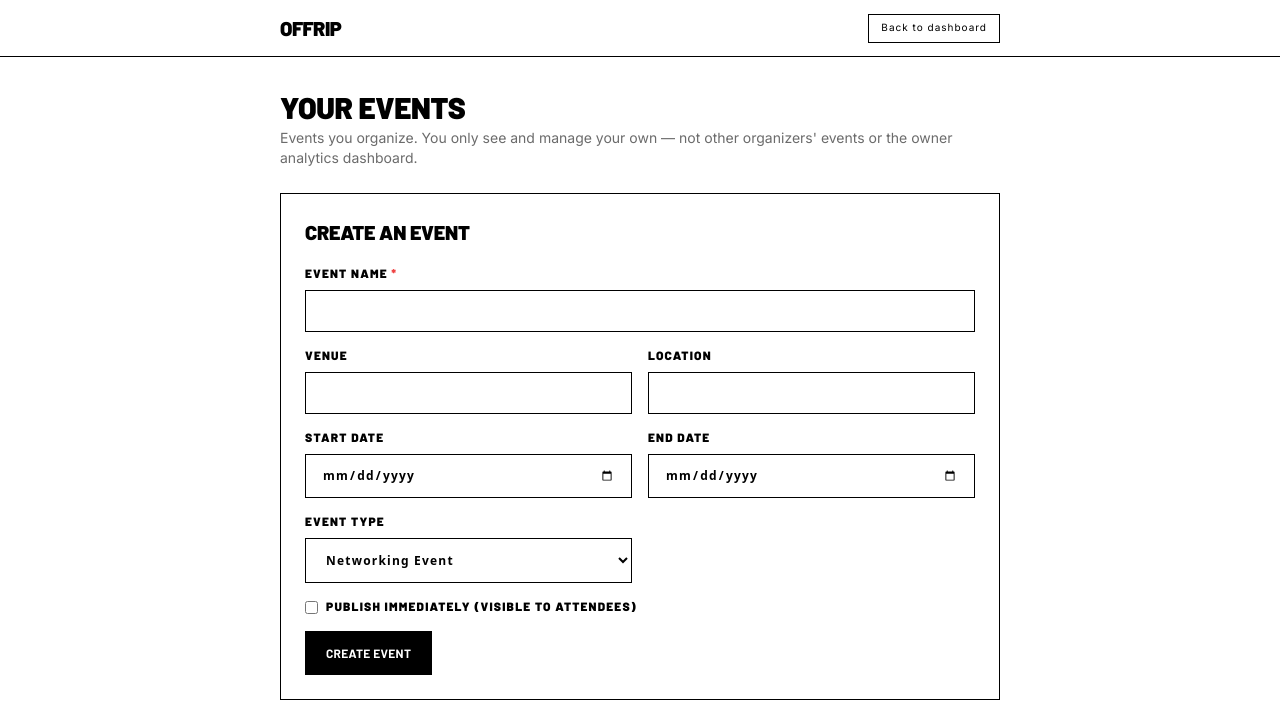
Test: OrganizerRooms — create › inserts with organizer_id set to the signed-in user and the chosen type
Check: the heading "Your events" is shown, box left=280, top=89, right=466, bottom=125
Type "Founders Mixer" into the field labelled "Event name *" at (640, 311), box left=305, top=290, right=975, bottom=332
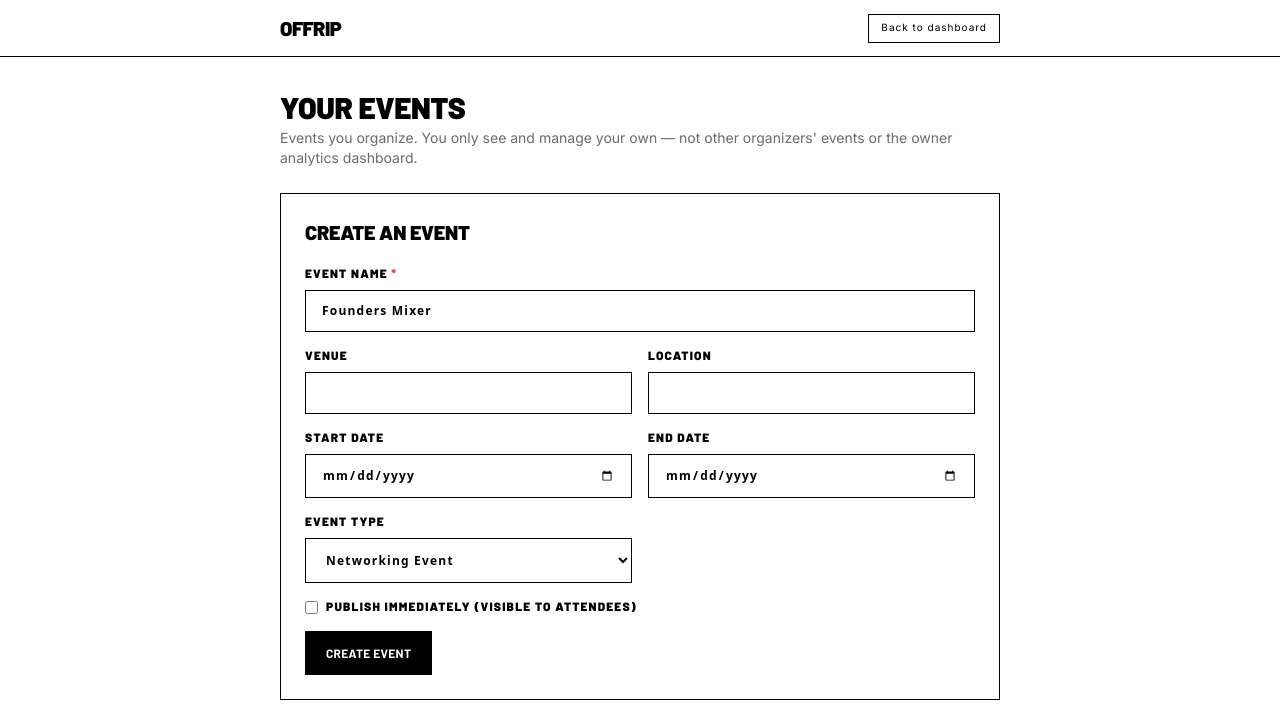
Type "The Wing" into the field labelled "Venue" at (468, 393), box left=305, top=372, right=632, bottom=414
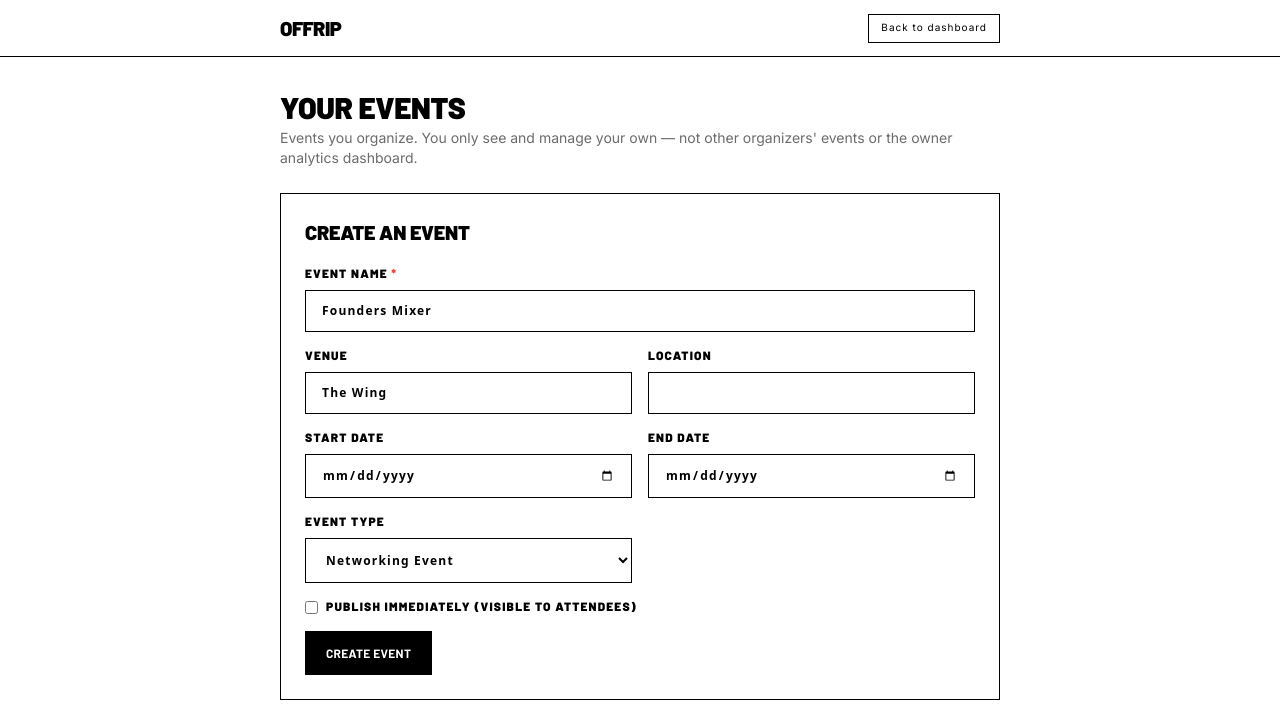
Select "Conference" in the dropdown labelled "Event type" at (468, 560), box left=305, top=538, right=632, bottom=583
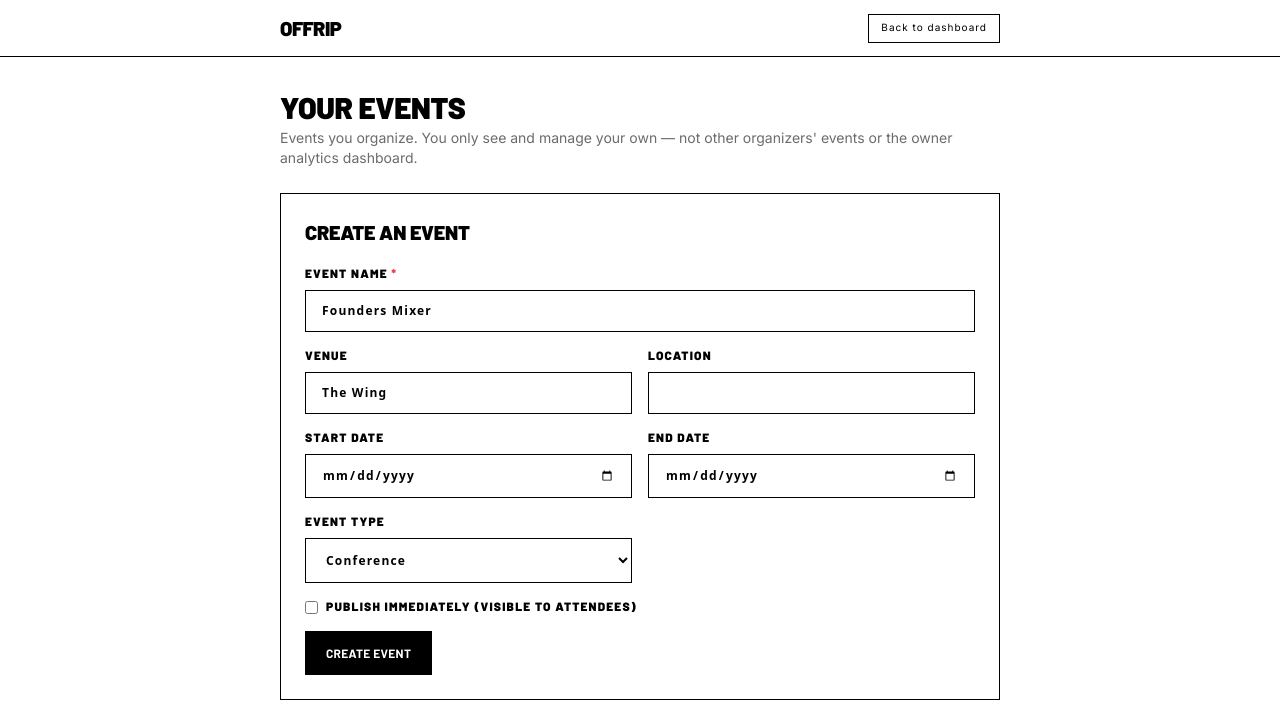
Click the button "Create event" at (369, 653), box left=305, top=631, right=432, bottom=675
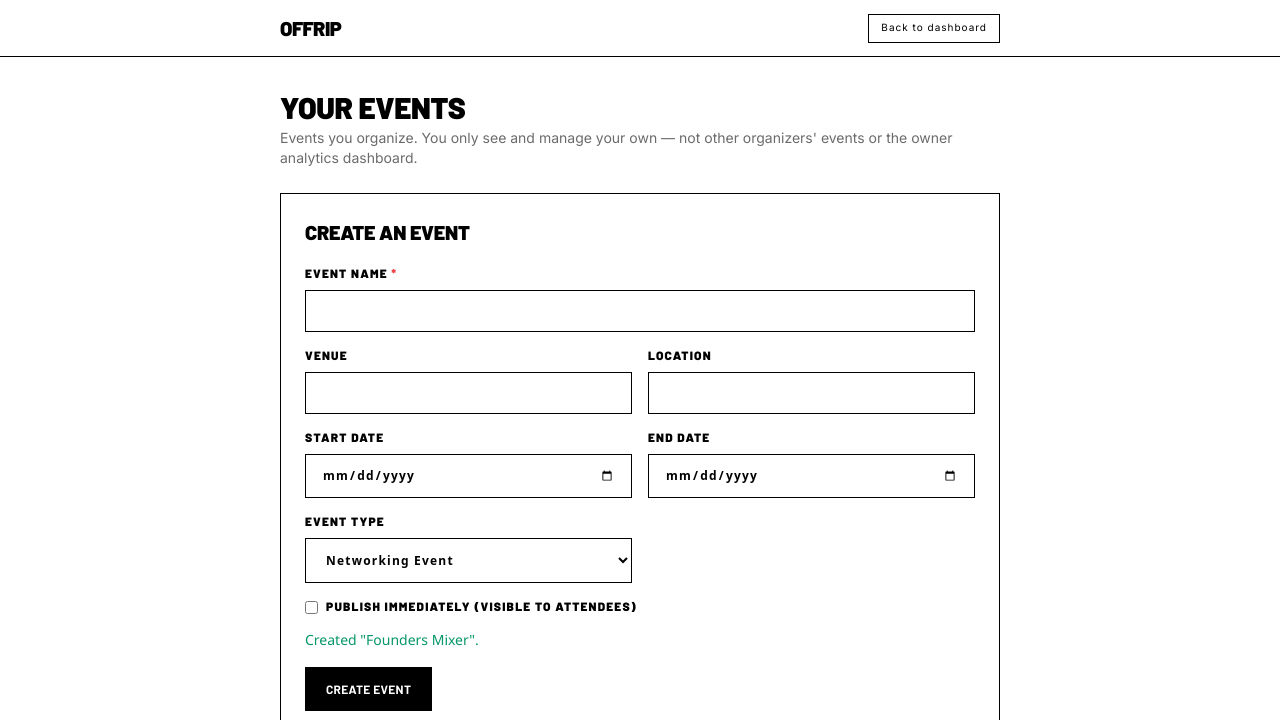
Check: the text "Created \"Founders Mixer\"." is shown, box left=305, top=631, right=479, bottom=650
